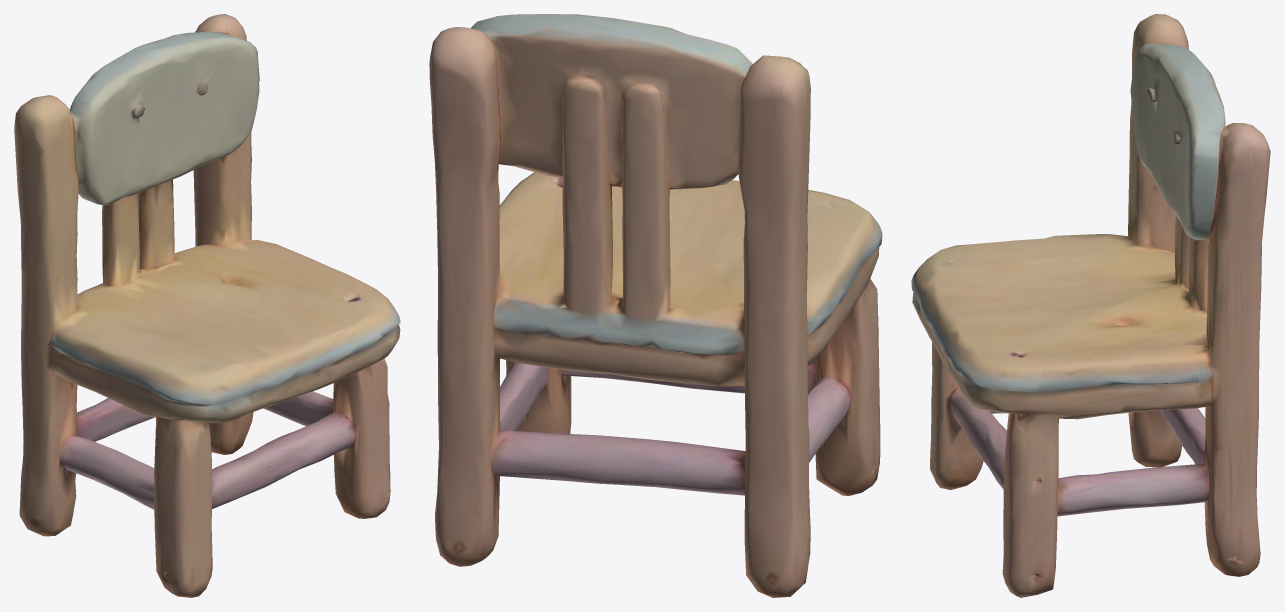
Rendered from chair.glb.
The picture shows the model from 3 angles, left to right: view 1: azimuth 30°, elevation 25°; view 2: azimuth 150°, elevation 25°; view 3: azimuth 270°, elevation 25°; orthographic projection. The views are drawn at different scales.
Visible parts, largest first — view 1: tripo_node_15ceb3a1-9f46-46a4-a02f-6409a36dd223; view 2: tripo_node_15ceb3a1-9f46-46a4-a02f-6409a36dd223; view 3: tripo_node_15ceb3a1-9f46-46a4-a02f-6409a36dd223.
Part boxes in pixels (<box>): tripo_node_15ceb3a1-9f46-46a4-a02f-6409a36dd223: <box>14,14,400,597</box>; tripo_node_15ceb3a1-9f46-46a4-a02f-6409a36dd223: <box>429,14,882,597</box>; tripo_node_15ceb3a1-9f46-46a4-a02f-6409a36dd223: <box>911,14,1270,597</box>.
Size of the model in its own units: 0.7122 by 1 by 0.7126.
1 material, 1 textured.
